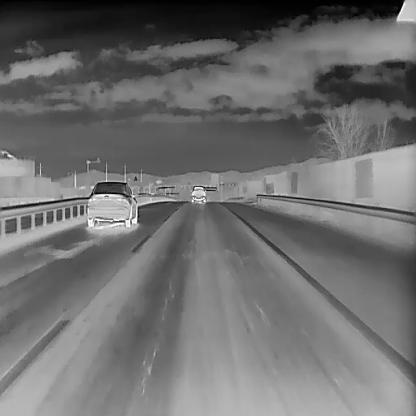car: (86, 180, 138, 227), (189, 184, 207, 202)
